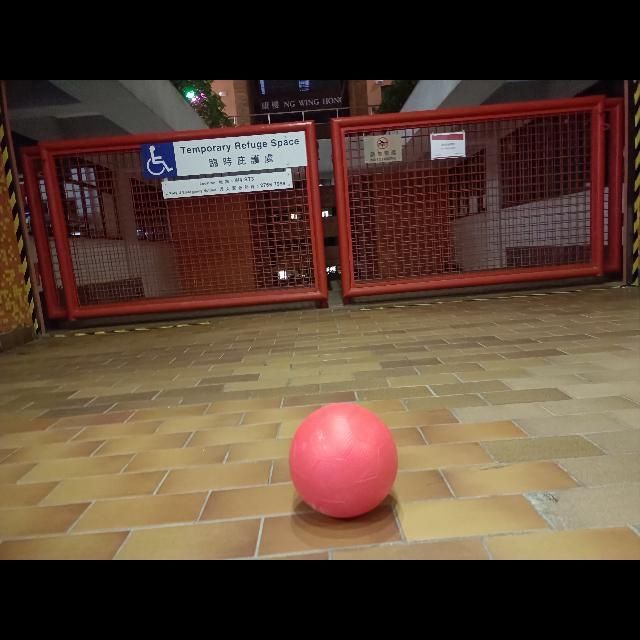R: (287, 399, 403, 516)
